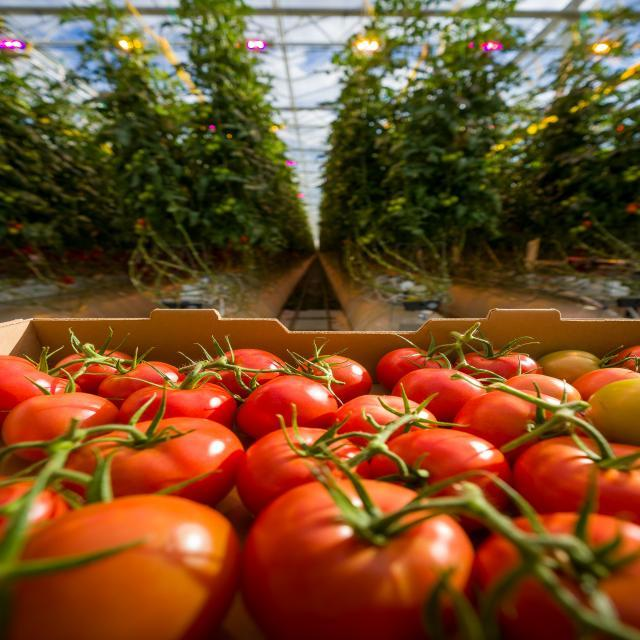yesil: (18, 474, 500, 640)
